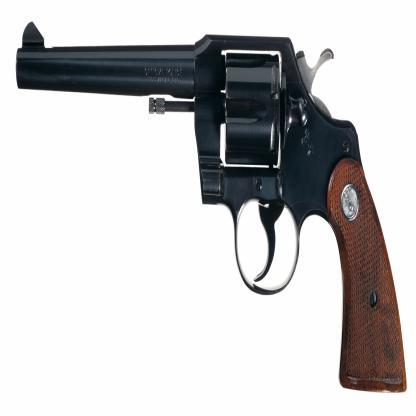gun: (17, 22, 411, 408)
